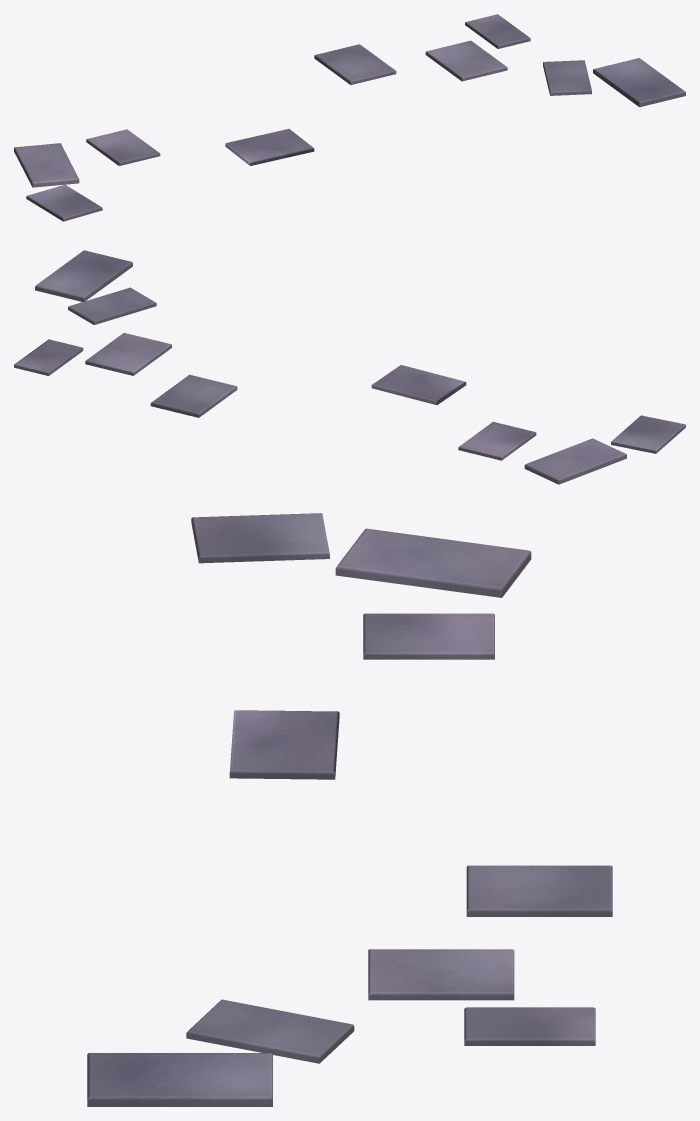
Rendered from TEXTURED TILES 2.fbx.
3 renders of one model, top to bottom at view 1: azimuth 30°, elevation 25°; view 2: azimuth 150°, elevation 25°; view 3: azimuth 270°, elevation 25°, orthographic. The views are drawn at different scales.
Parts seen in each view (by area): view 1: tiles; view 2: tiles; view 3: tiles.
Boxes of the visible parts, x1=… form: tiles: x1=14, y1=14, x2=685, y2=221; tiles: x1=14, y1=250, x2=685, y2=484; tiles: x1=87, y1=513, x2=612, y2=1106.
Bounding box in the file's own units: 23.41 × 0.1753 × 8.87.
